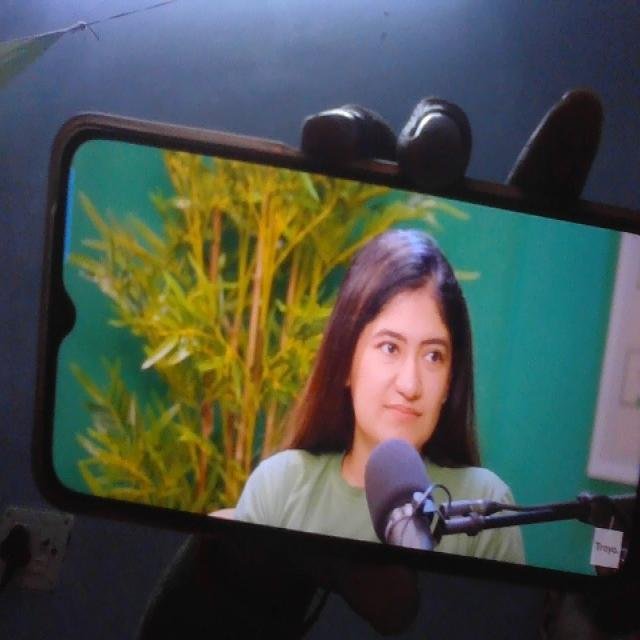fake: (346, 233, 462, 452)
